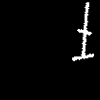double_crochet: (72, 3, 93, 60)
